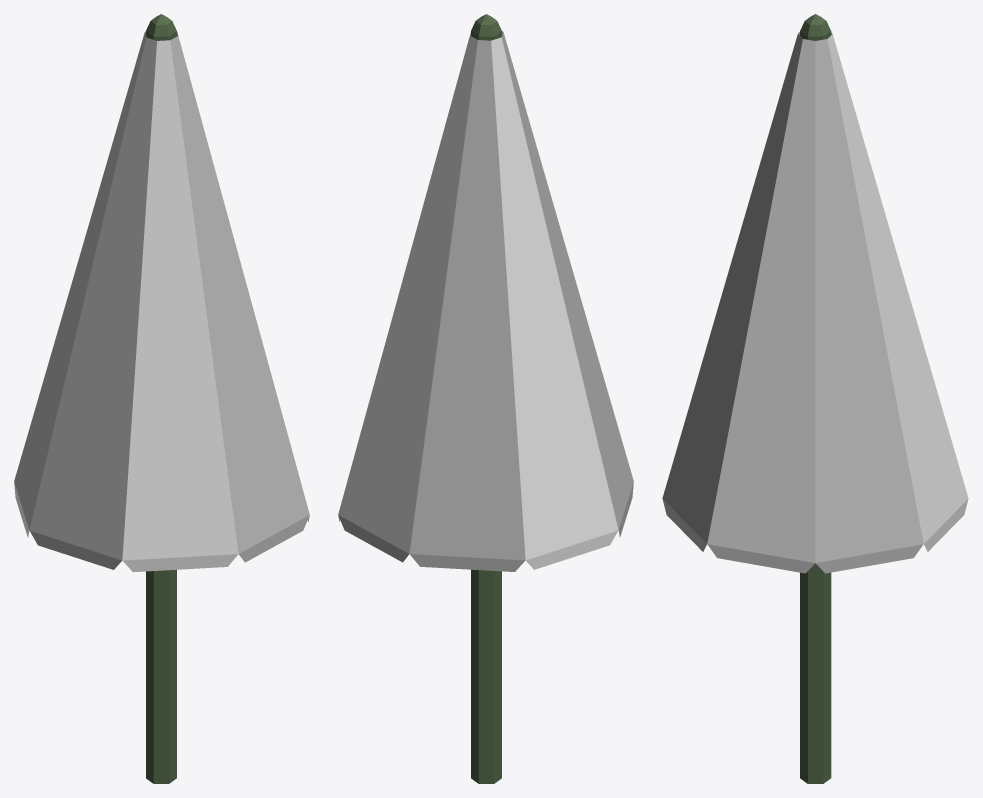
The model's file is sunscreen04.fbx.
The picture shows the model from 3 angles, left to right: view 1: azimuth 30°, elevation 25°; view 2: azimuth 150°, elevation 25°; view 3: azimuth 270°, elevation 25°; orthographic projection.
Parts seen in each view (by area): view 1: sunscreen04; view 2: sunscreen04; view 3: sunscreen04.
Part boxes in pixels (box(x1,y1,x2,y2)): sunscreen04: box(14, 14, 309, 783); sunscreen04: box(338, 14, 633, 783); sunscreen04: box(662, 14, 968, 783).
Bounding box in the file's own units: 0.8022 × 0.8022 × 2.21.
